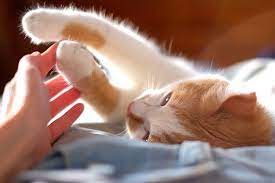cat: (106, 48, 270, 174)
